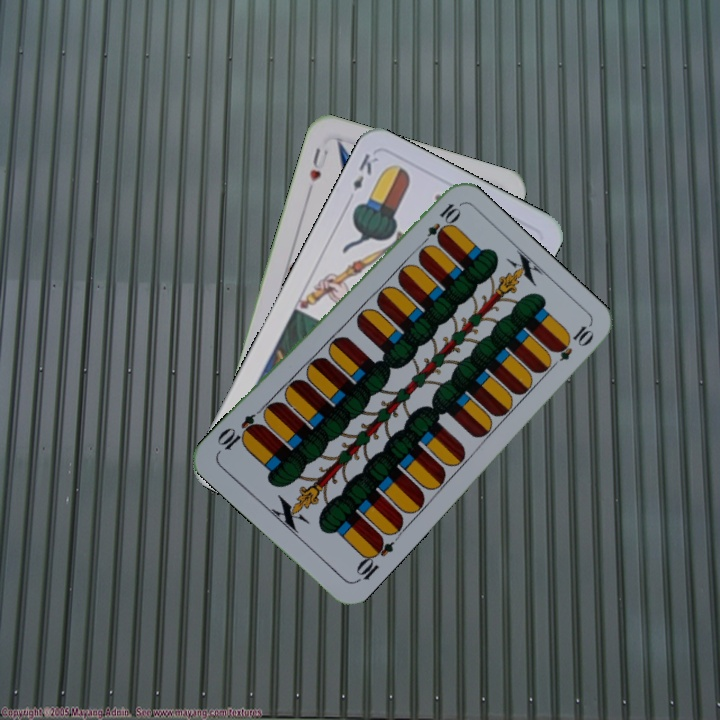E10: (351, 532, 397, 585), (416, 199, 462, 250)
EK: (349, 149, 381, 194)
HU: (305, 144, 331, 185)
